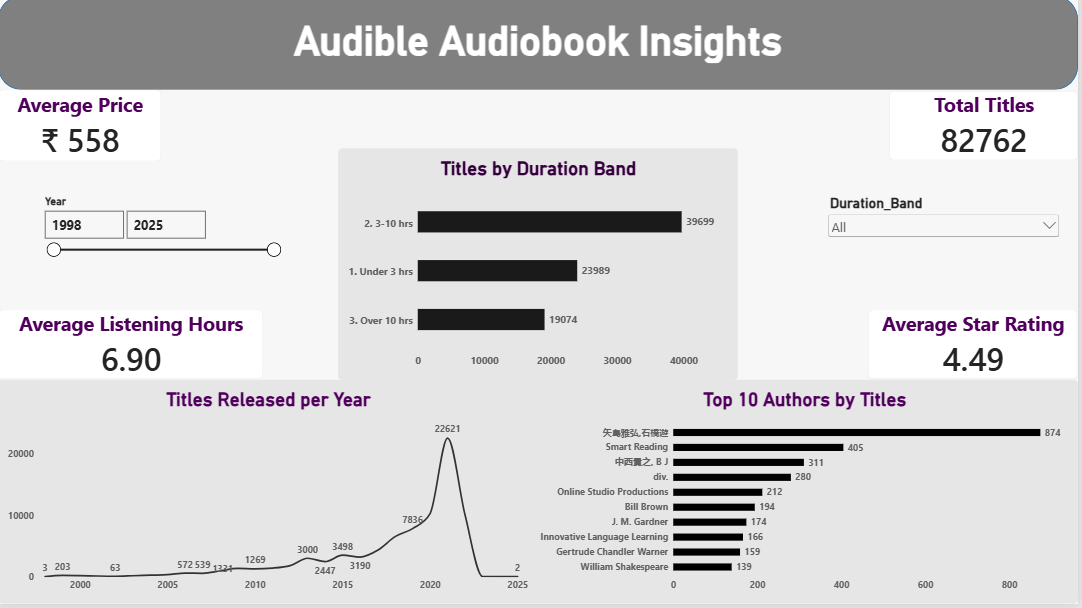

This screenshot's page, from the dashboard's own definition file:
{"tool":"powerbi","page":{"name":"Page 1","canvas":[1920,1080],"ordinal":0},"visuals":[{"type":"cardVisual","fields":{"Data":["Audible Audiobook Insights.Total Titles"]},"box":[1584.4,168.9,335.5,123.5],"z":0},{"type":"cardVisual","fields":{"Data":["Audible Audiobook Insights.Average Price"]},"box":[0,166.7,290.2,127.6],"z":1000},{"type":"cardVisual","fields":{"Data":["Audible Audiobook Insights.Average Listening Hours"]},"box":[0,557.8,471.4,123.5],"z":2000},{"type":"cardVisual","fields":{"Data":["Audible Audiobook Insights.Average Star Rating"]},"box":[1546.7,557.8,372.6,123.5],"z":3000},{"type":"lineChart","title":"Titles Released per Year","fields":{"Category":["Audible_Audiobook_Catalog.Releasedate.Variation.Date Hierarchy.Year"],"Y":["Audible_Audiobook_Catalog.Total Titles"]},"box":[0,682.2,960,397.8],"z":5000},{"type":"clusteredBarChart","title":"Top 10 Authors by Titles","fields":{"Category":["Audible_Audiobook_Catalog.Author"],"Y":["Audible_Audiobook_Catalog.Total Titles"]},"box":[946.7,682.2,973.6,397.3],"z":7000},{"type":"clusteredBarChart","title":"Titles by Duration Band","fields":{"Category":["Audible_Audiobook_Catalog.Duration_Band"],"Y":["Audible_Audiobook_Catalog.Total Titles"]},"box":[604.4,271.1,711.1,411.1],"z":8000},{"type":"slicer","fields":{"Values":["Audible_Audiobook_Catalog.Duration_Band"]},"box":[1471.1,353.3,420,106.7],"z":9000},{"type":"slicer","fields":{"Values":["Audible_Audiobook_Catalog.Releasedate.Variation.Date Hierarchy.Year"]},"box":[75.6,353.3,431.1,142.2],"z":10000},{"type":"shape","box":[0,0,1920,166.7],"z":12001},{"type":"textbox","box":[1770,271,150,150],"z":12002},{"type":"textbox","title":"Audible Audiobook Insights","box":[0,37.8,1920,93.3],"z":12003}]}

Visuals, with their boxes in screenshot pixels (x1, y1, x2, y2), scaled from the page's 1920x1080 canvas onto the 1082x608 screenshot:
cardVisual - Audible Audiobook Insights.Total Titles: locate(893, 95, 1081, 165)
cardVisual - Audible Audiobook Insights.Average Price: locate(0, 94, 164, 166)
cardVisual - Audible Audiobook Insights.Average Listening Hours: locate(0, 314, 266, 384)
cardVisual - Audible Audiobook Insights.Average Star Rating: locate(872, 314, 1081, 384)
"Titles Released per Year" lineChart: locate(0, 384, 541, 607)
"Top 10 Authors by Titles" clusteredBarChart: locate(534, 384, 1081, 607)
"Titles by Duration Band" clusteredBarChart: locate(341, 153, 741, 384)
slicer - Audible_Audiobook_Catalog.Duration_Band: locate(829, 199, 1066, 259)
slicer - Audible_Audiobook_Catalog.Releasedate.Variation.Date Hierarchy.Year: locate(43, 199, 286, 279)
shape: locate(0, 0, 1081, 94)
textbox: locate(997, 153, 1081, 237)
"Audible Audiobook Insights" textbox: locate(0, 21, 1081, 74)
